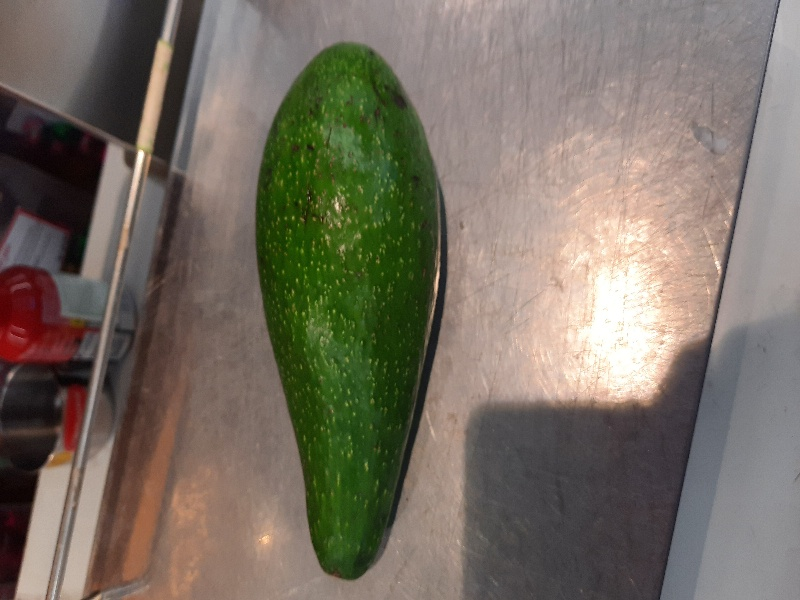fruit: (252, 35, 450, 588)
